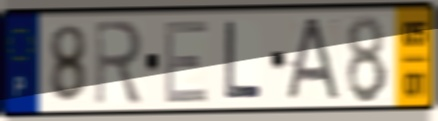8: (344, 12, 390, 105), (46, 22, 89, 105)
A: (280, 15, 343, 102)
E: (162, 16, 211, 106)
L: (223, 18, 264, 103)
R: (93, 17, 145, 108)
